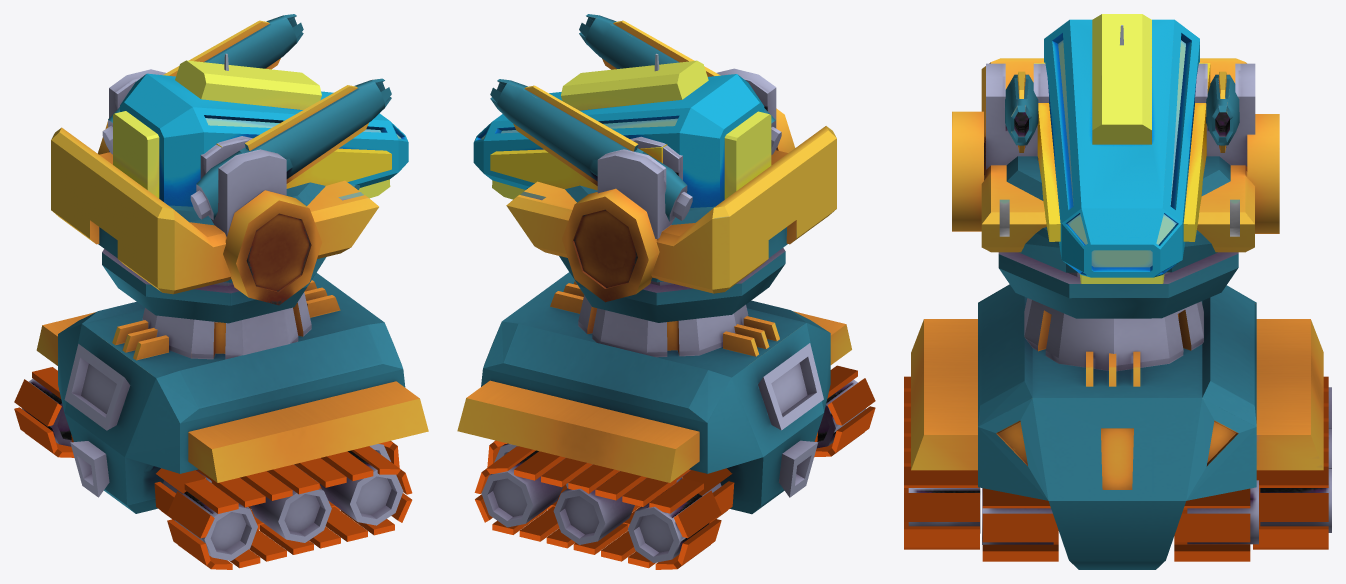
File: Player_Idle_2_Upgrade3.obj
3 renders of one model, left to right at view 1: azimuth 30°, elevation 25°; view 2: azimuth 150°, elevation 25°; view 3: azimuth 270°, elevation 25°, orthographic. The views are drawn at different scales.
Parts seen in each view (by area): view 1: Object008, Box020, Object014, Box018, Box019, Box017; view 2: Object008, Object014, Box019, Box018, Box020, Box016; view 3: Object008, Box020, Box019, Box017, Box016, Object014, Box018, Box009.
Boxes of the visible parts, x1,y1,x2,y2 form: Object008: (36,60,428,513); Box020: (167,446,412,569); Object014: (102,14,391,220); Box018: (22,379,403,560); Box019: (14,367,74,457); Box017: (154,441,399,529); Object008: (457,60,851,514); Object014: (490,14,781,221); Box019: (474,446,721,569); Box018: (481,379,866,562); Box020: (814,365,875,457); Box016: (487,440,734,527); Object008: (911,14,1323,569); Box020: (904,376,979,549); Box019: (1253,376,1328,549); Box017: (982,488,1058,561); Box016: (1174,488,1250,561); Object014: (1005,71,1239,152); Box018: (908,387,1331,533); Box009: (982,480,1258,544).
Bounding box in the file's own units: 65.77 × 85.5 × 68.55.
5 materials, 3 textured.
